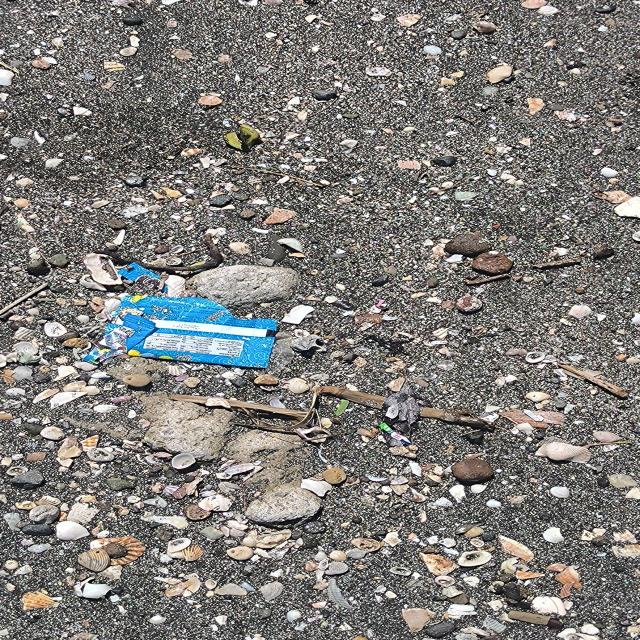plastic_waste: (89, 264, 281, 370)
